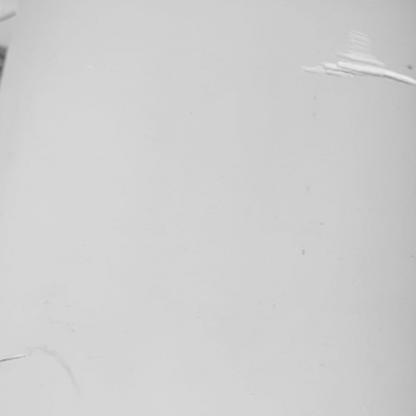sunshang: (300, 24, 414, 90)
